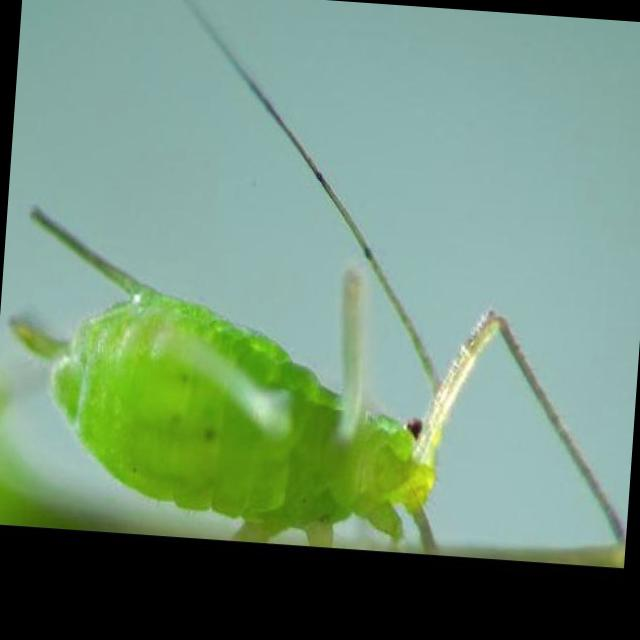aphid: (14, 129, 600, 570)
